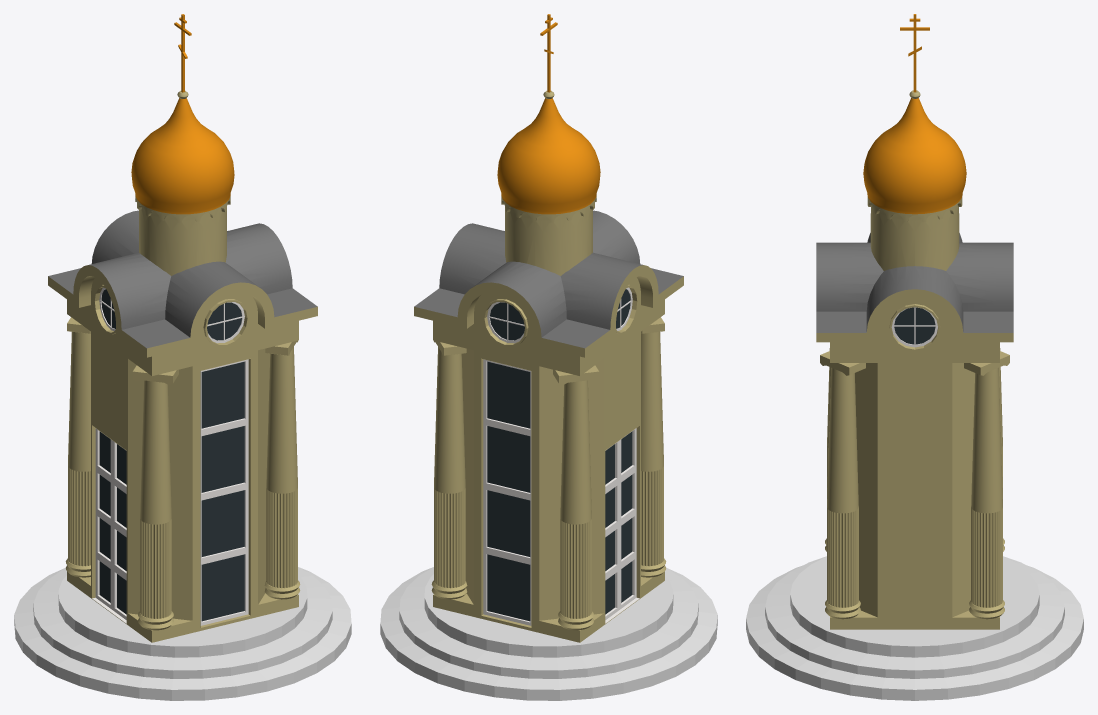
The model's file is Chasovnya.gltf.
The picture shows the model from 3 angles, left to right: view 1: azimuth 30°, elevation 25°; view 2: azimuth 150°, elevation 25°; view 3: azimuth 270°, elevation 25°; orthographic projection.
Parts seen in each view (by area): view 1: Часовня, Часовня_ступени, Часовня_колонна, Часовня_Окно_1х4, Часовня_дверь, Часовня_дверь.002, Часовня_дверь.001; view 2: Часовня, Часовня_ступени, Часовня_колонна, Часовня_Окно_1х4, Часовня_дверь, Часовня_дверь.002, Часовня_дверь.001; view 3: Часовня, Часовня_ступени, Часовня_колонна, Часовня_дверь.001.
Boxes of the visible parts, x1=… form: Часовня: x1=48, y1=14, x2=317, y2=642; Часовня_ступени: x1=14, y1=567, x2=351, y2=700; Часовня_колонна: x1=65, y1=317, x2=300, y2=630; Часовня_Окно_1х4: x1=200, y1=358, x2=250, y2=627; Часовня_дверь: x1=92, y1=425, x2=126, y2=623; Часовня_дверь.002: x1=203, y1=299, x2=249, y2=346; Часовня_дверь.001: x1=94, y1=285, x2=115, y2=334; Часовня: x1=414, y1=14, x2=683, y2=642; Часовня_ступени: x1=380, y1=567, x2=717, y2=700; Часовня_колонна: x1=431, y1=317, x2=666, y2=630; Часовня_Окно_1х4: x1=481, y1=358, x2=531, y2=627; Часовня_дверь: x1=605, y1=425, x2=639, y2=623; Часовня_дверь.002: x1=482, y1=299, x2=528, y2=346; Часовня_дверь.001: x1=616, y1=284, x2=638, y2=334; Часовня: x1=816, y1=14, x2=1013, y2=629; Часовня_ступени: x1=746, y1=556, x2=1083, y2=700; Часовня_колонна: x1=820, y1=348, x2=1009, y2=619; Часовня_дверь.001: x1=889, y1=304, x2=940, y2=351.
Size of the model in its own units: 1.16 by 2.33 by 1.16.
